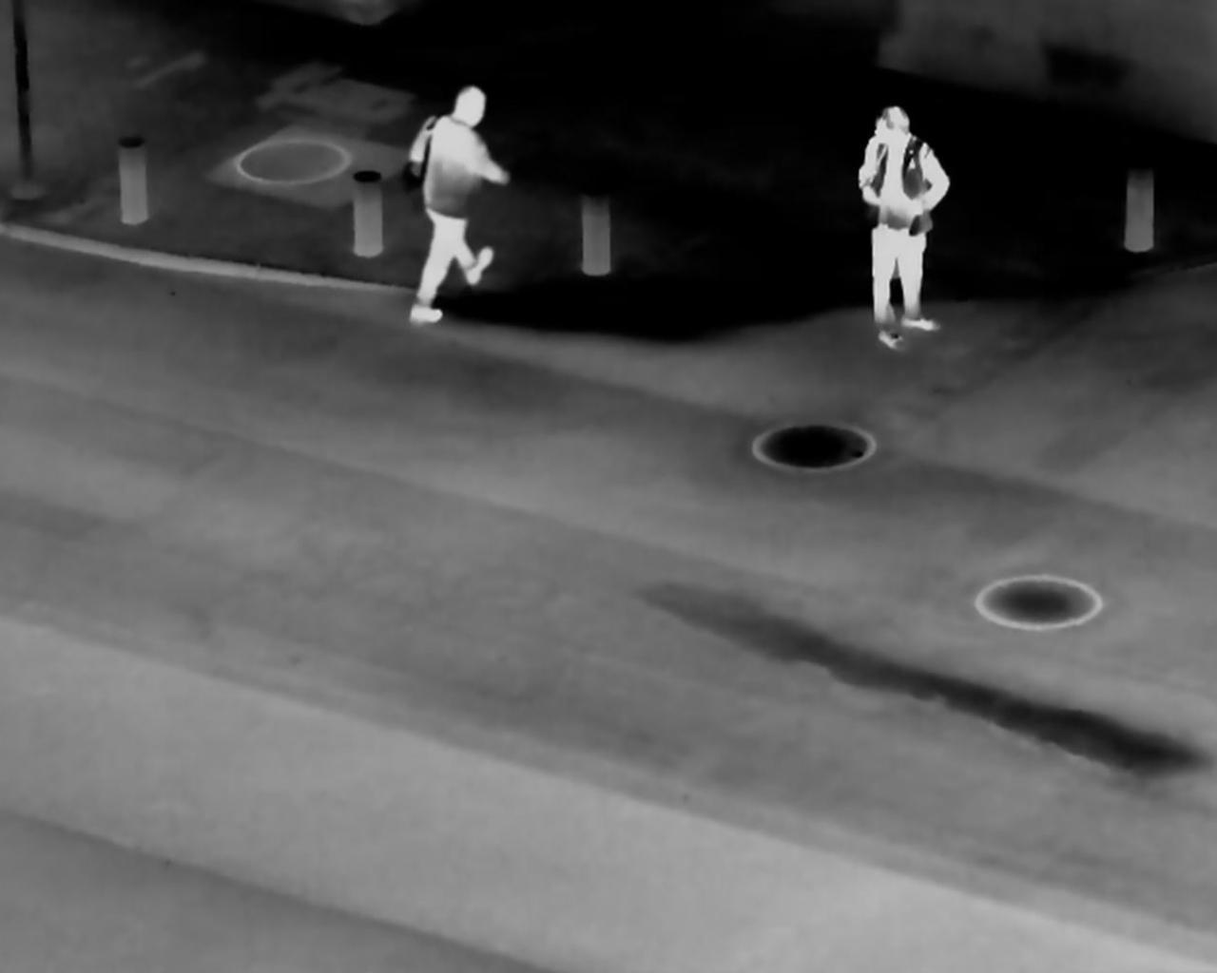person: (406, 76, 501, 334), (857, 103, 952, 356)
